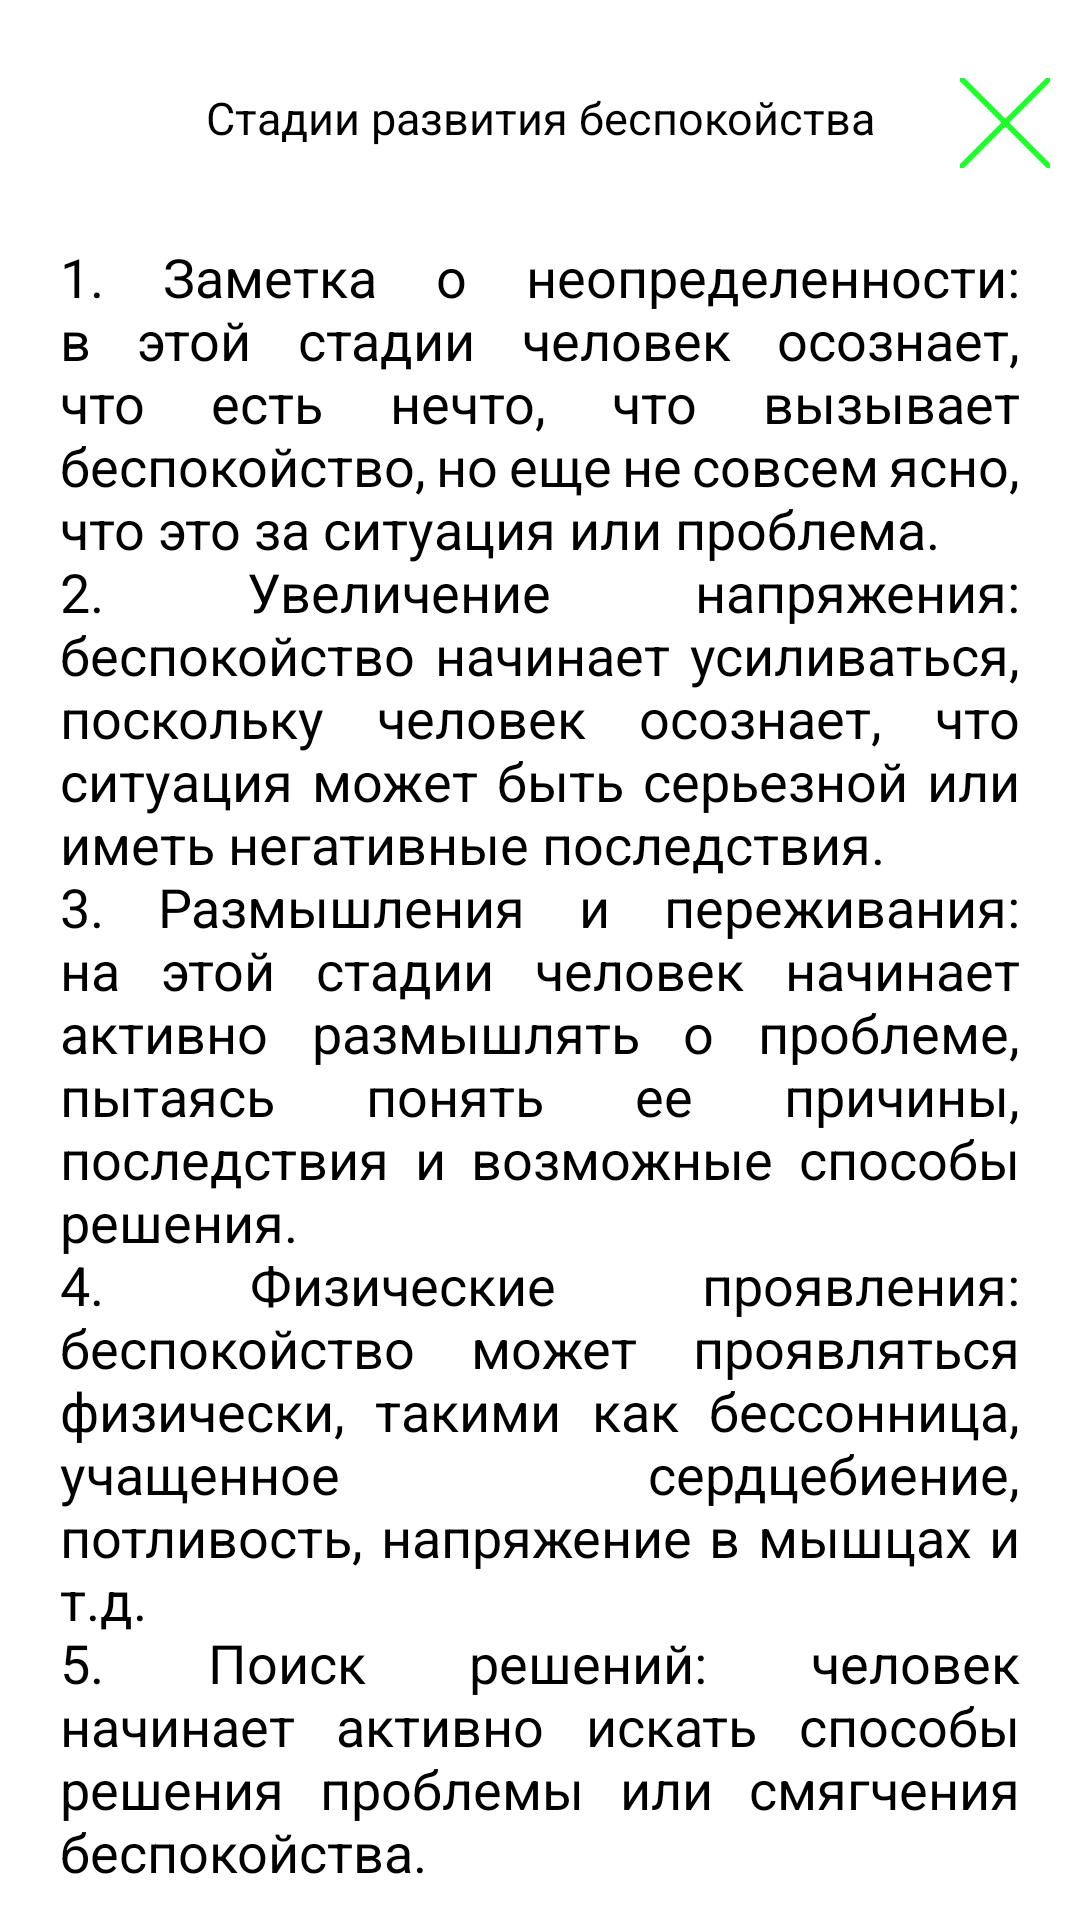

Screen size 1080px x 1920px. Icon name, then its center in pixels as [x,y]:
close: [1005,123]
